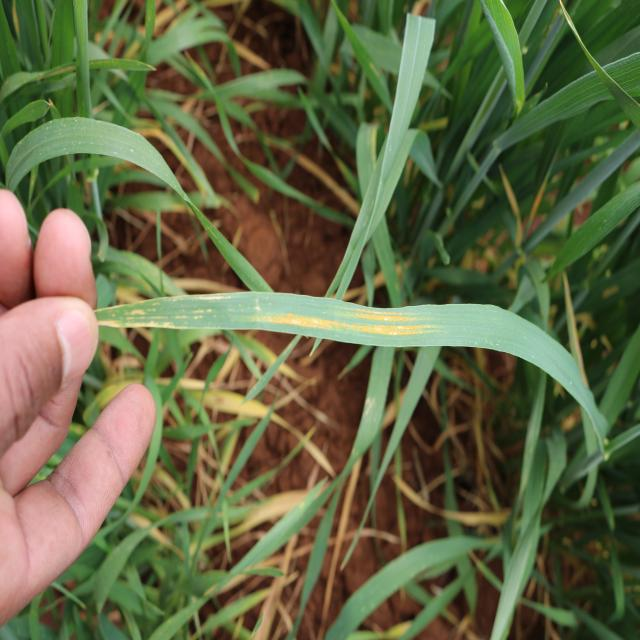Stripe Rust: (370, 323, 438, 338), (269, 312, 328, 329), (358, 311, 416, 325), (342, 322, 368, 336)
